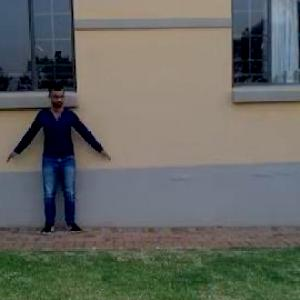land: (6, 84, 111, 244)
